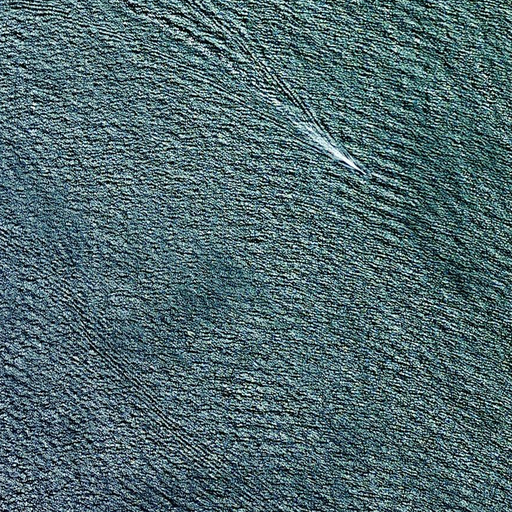ship: (357, 167, 370, 177)
